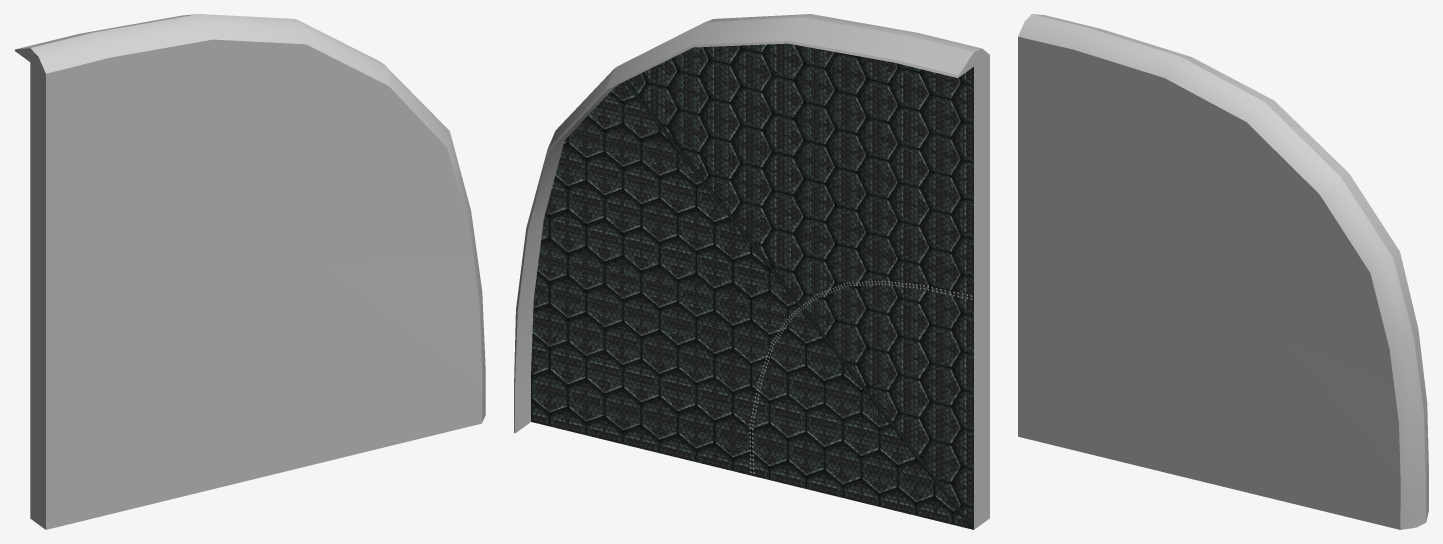
File: highway_90_degree_turn.fbx
3 renders of one model, left to right at view 1: azimuth 30°, elevation 25°; view 2: azimuth 150°, elevation 25°; view 3: azimuth 330°, elevation 25°, orthographic. The views are drawn at different scales.
Visible parts, largest first — view 1: highway_90_degree_turn; view 2: highway_90_degree_turn, light_014; view 3: highway_90_degree_turn.
Boxes of the visible parts, bbox=[...] form: highway_90_degree_turn: bbox=[14, 14, 485, 529]; highway_90_degree_turn: bbox=[514, 14, 989, 529]; light_014: bbox=[749, 280, 972, 473]; highway_90_degree_turn: bbox=[1018, 14, 1428, 529].
Bounding box in the file's own units: 8.25 × 8.25 × 1.01.
